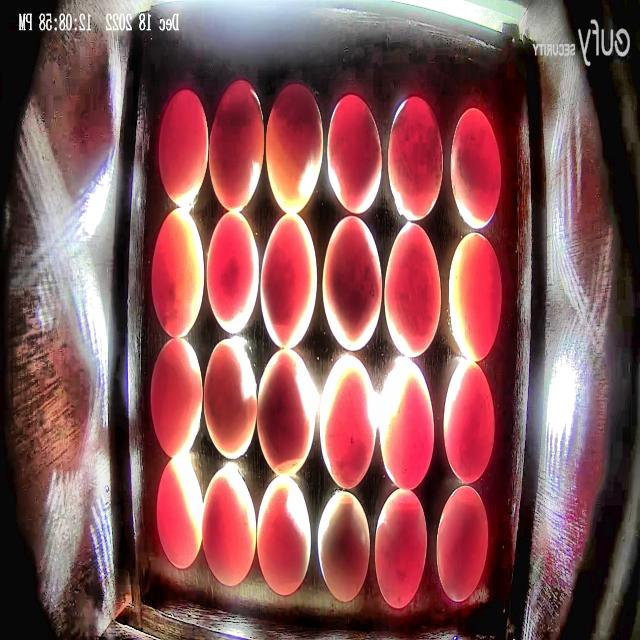FE: (322, 216, 383, 352), (256, 346, 316, 479), (319, 355, 377, 490), (384, 225, 442, 359), (260, 212, 316, 349), (208, 78, 265, 212), (265, 84, 323, 214), (379, 357, 435, 490), (388, 95, 444, 222), (448, 233, 501, 363), (152, 209, 205, 338), (202, 465, 258, 587), (326, 93, 382, 214), (203, 338, 258, 460), (374, 487, 428, 608), (443, 359, 495, 484), (257, 475, 311, 595), (449, 107, 501, 230), (207, 213, 260, 333), (436, 484, 489, 603), (151, 338, 202, 459), (158, 89, 210, 207), (318, 490, 371, 603), (156, 457, 202, 569)
